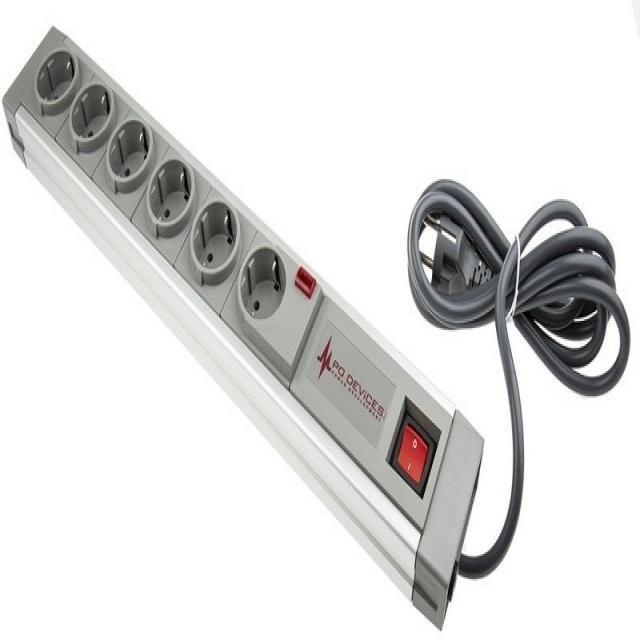typeb: (32, 17, 316, 371)
